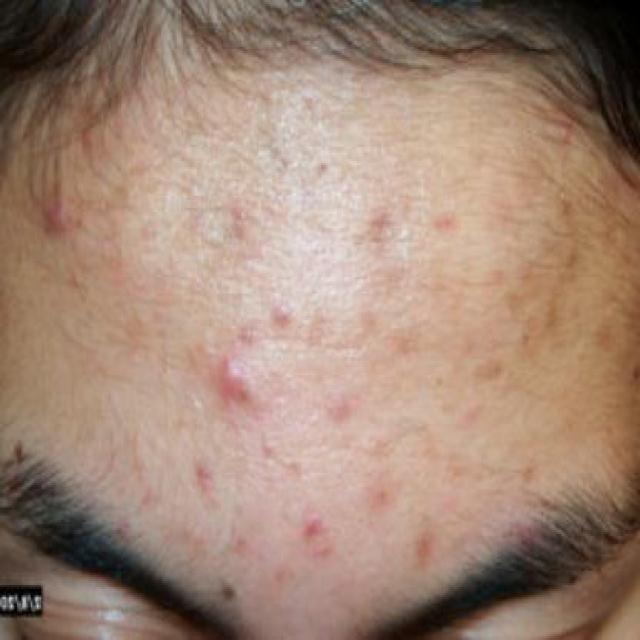blackheads: (211, 562, 255, 620)
dark spot: (322, 363, 366, 434), (294, 506, 341, 538), (368, 200, 400, 242), (182, 461, 216, 485)
nodules: (206, 354, 262, 414), (34, 192, 81, 242)
